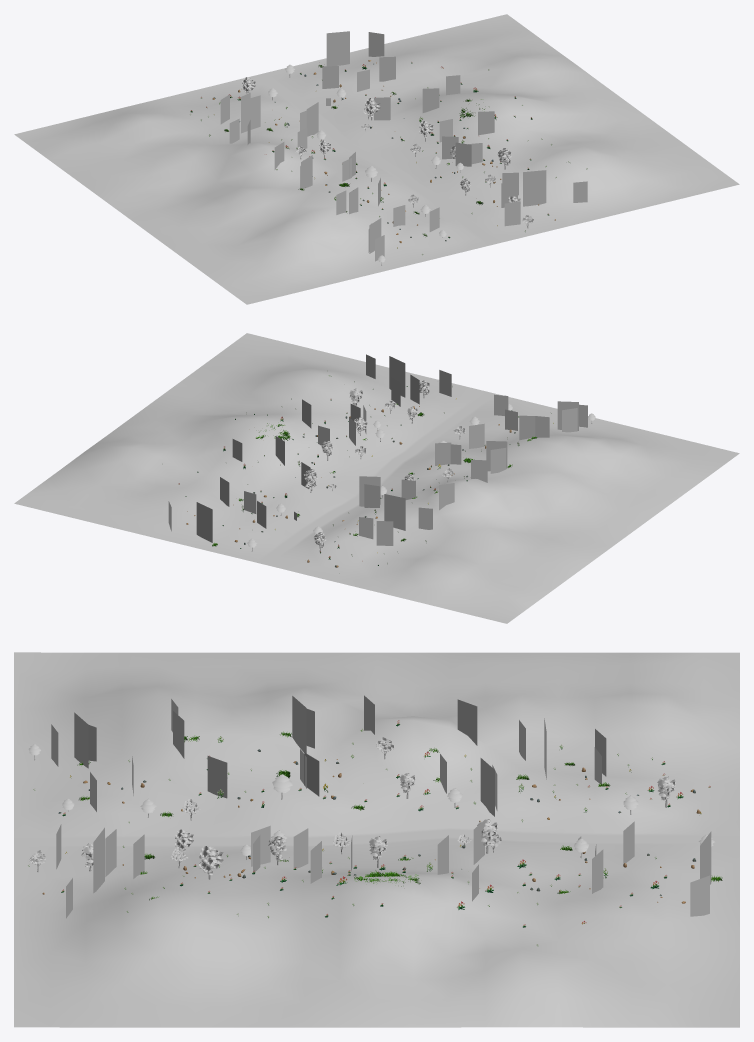
File: caoyuan04.fbx
3 renders of one model, top to bottom at view 1: azimuth 30°, elevation 25°; view 2: azimuth 150°, elevation 25°; view 3: azimuth 270°, elevation 25°, orthographic. The views are drawn at different scales.
Visible parts, largest first — view 1: caoyuan, pPlane1667, pPlane1404, pPlane1378; view 2: caoyuan, pPlane1378, pPlane1404, pPlane1667; view 3: caoyuan, pPlane1212, pPlane1406, pPlane1295, pPlane1361, pPlane1225, pPlane1163, pPlane1667.
Part boxes in pixels (x1,y1,x2,y2): caoyuan: (14, 14, 739, 304); pPlane1667: (523, 170, 546, 206); pPlane1404: (326, 31, 349, 66); pPlane1378: (241, 95, 260, 133); caoyuan: (14, 333, 739, 623); pPlane1378: (384, 494, 405, 530); pPlane1404: (196, 502, 212, 542); pPlane1667: (389, 356, 405, 397); caoyuan: (14, 652, 739, 1027); pPlane1212: (207, 756, 227, 798); pPlane1406: (690, 875, 709, 916); pPlane1295: (457, 699, 477, 745); pPlane1361: (480, 758, 494, 816); pPlane1225: (292, 696, 306, 753); pPlane1163: (74, 712, 88, 768); pPlane1667: (93, 827, 104, 893).
Size of the model in its own units: 244 by 20.54 by 200.
